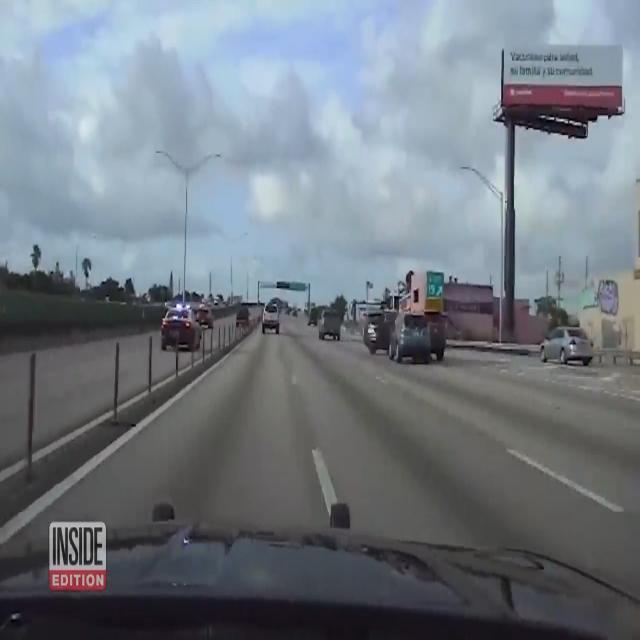accident: (391, 289, 450, 375)
